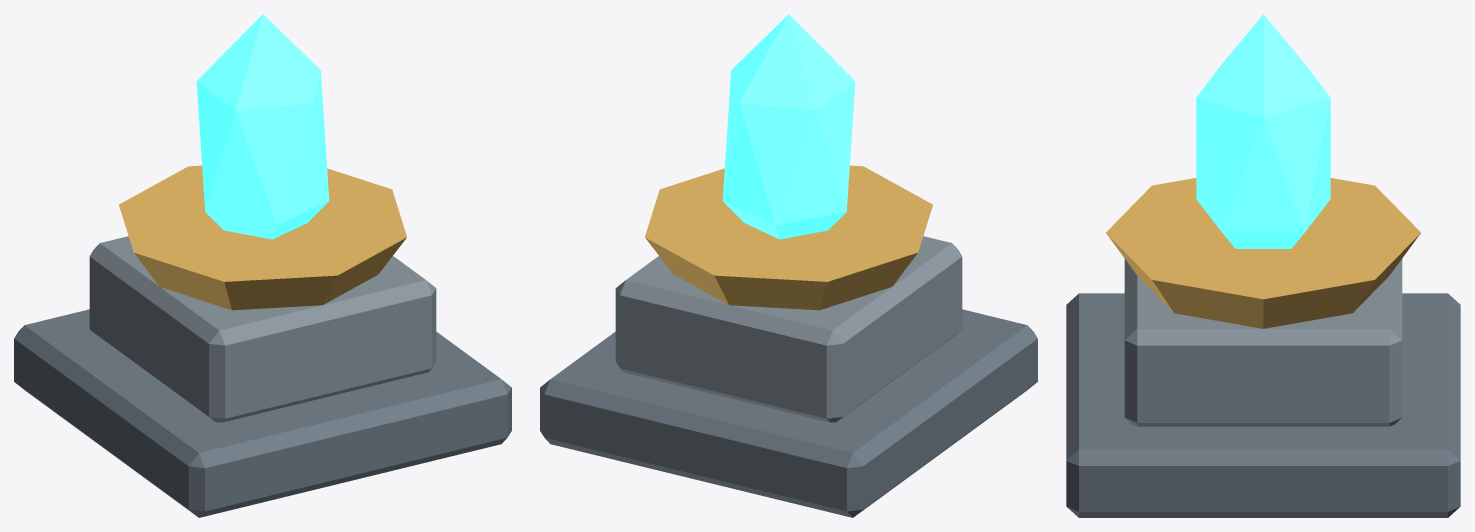
The model's file is altar.glb.
The picture shows the model from 3 angles, left to right: view 1: azimuth 30°, elevation 25°; view 2: azimuth 150°, elevation 25°; view 3: azimuth 270°, elevation 25°; orthographic projection. The views are drawn at different scales.
Parts seen in each view (by area): view 1: altar; view 2: altar; view 3: altar.
Part boxes in pixels (left/top/right/bottom): altar: left=14, top=14, right=511, bottom=517; altar: left=540, top=14, right=1037, bottom=517; altar: left=1066, top=14, right=1460, bottom=517.
Bounding box in the file's own units: 1.25 × 1.49 × 1.25.
